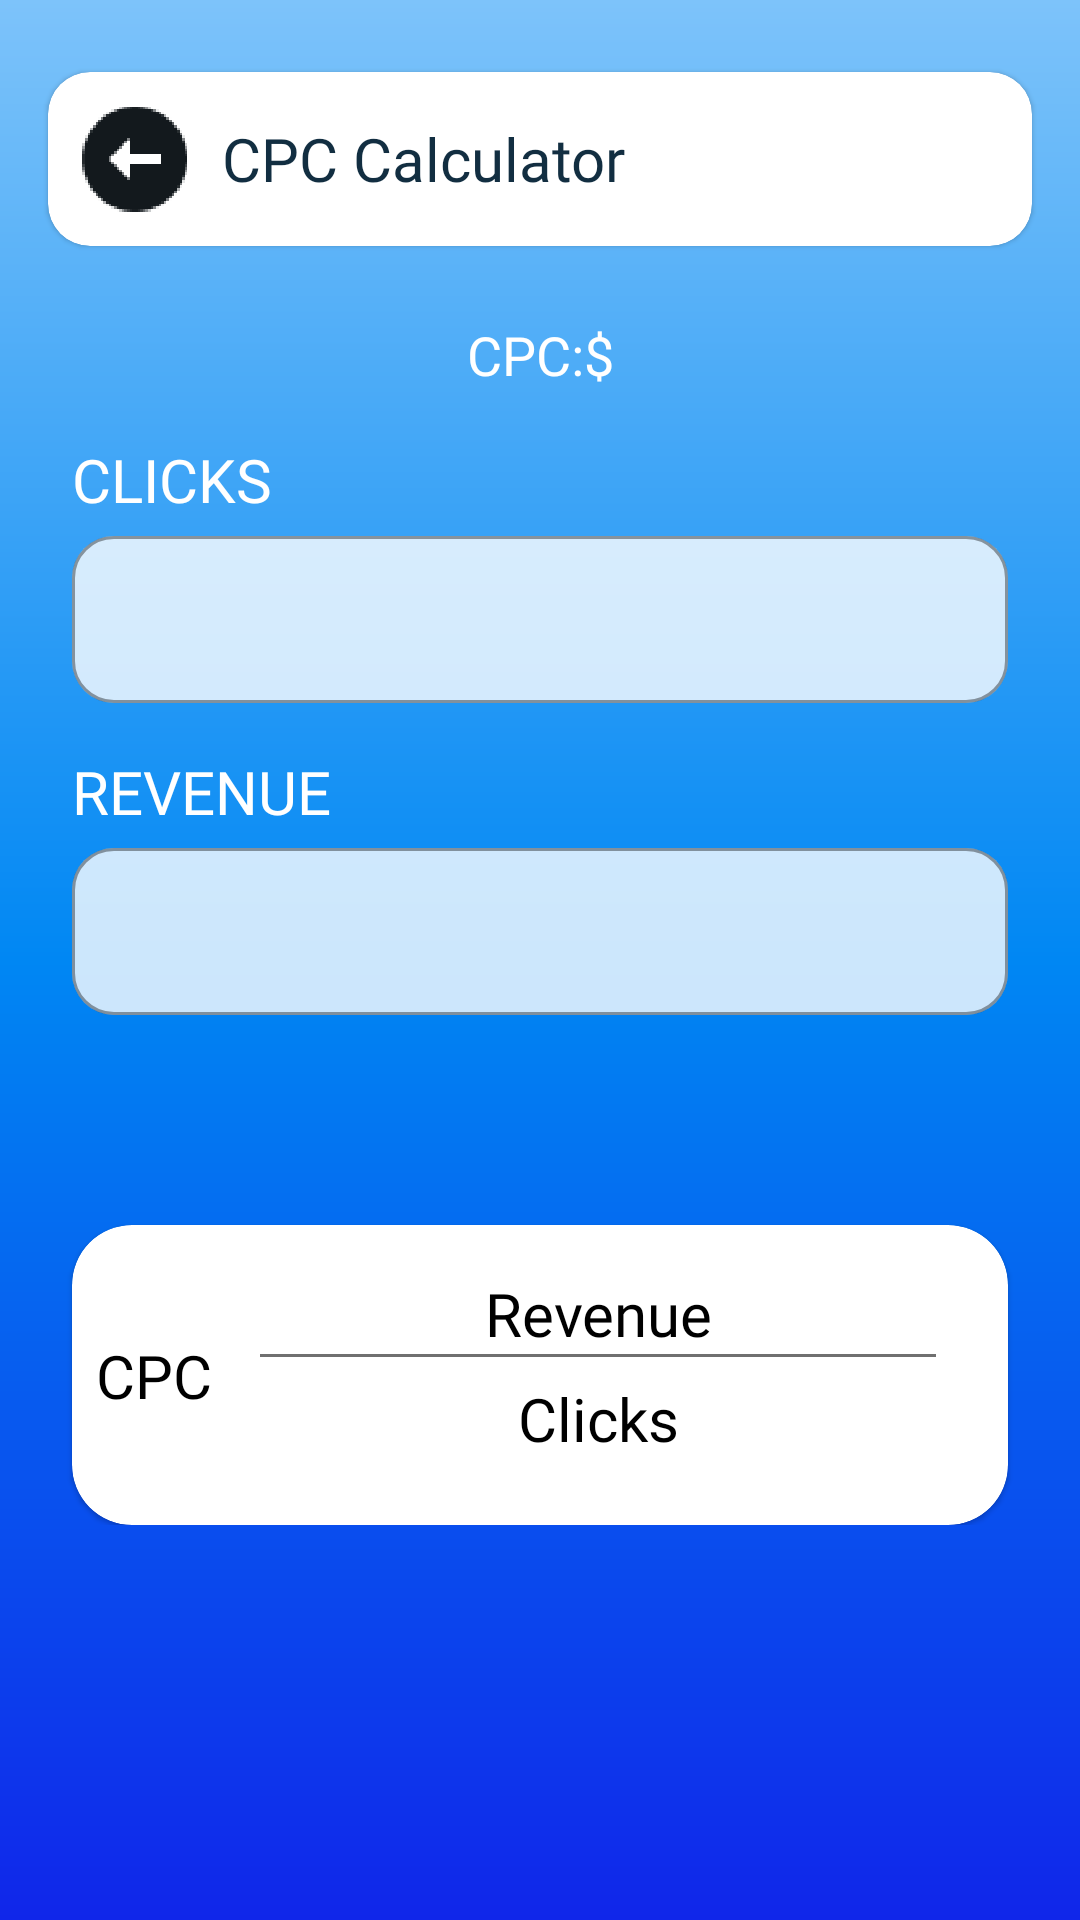

Where icons sit on this 1080w x 1920h app screen, as (x1, y1, x2, y2):
scroll back: (82, 107, 187, 212)
